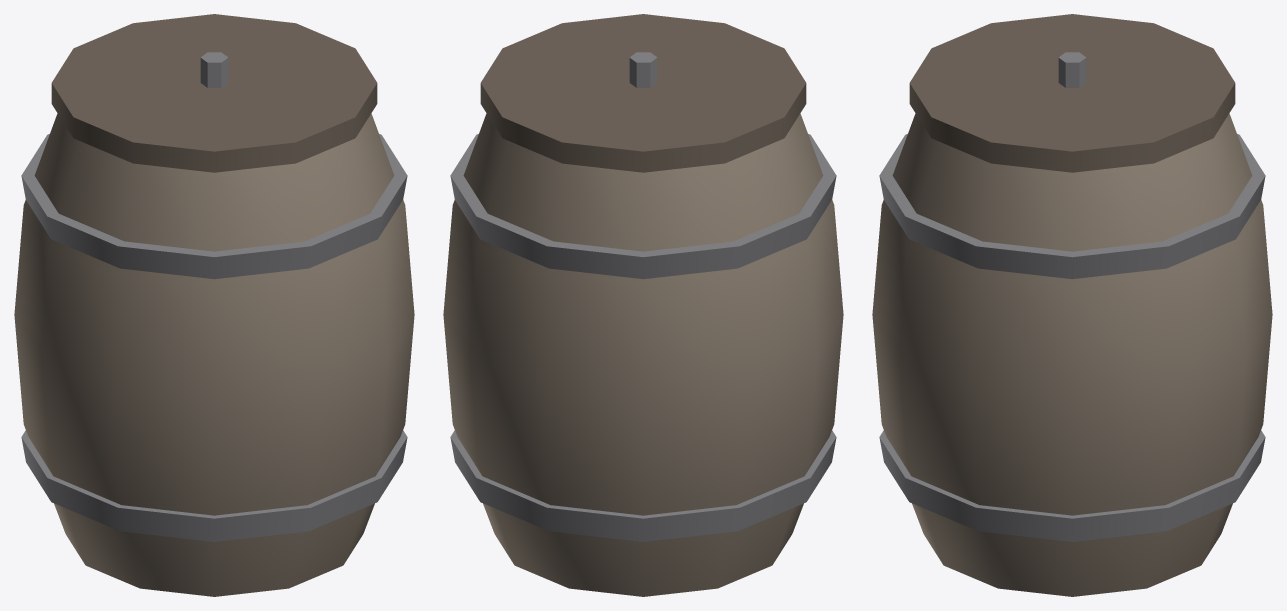
Rendered from loot_barrel.gltf.
The picture shows the model from 3 angles, left to right: view 1: azimuth 30°, elevation 25°; view 2: azimuth 150°, elevation 25°; view 3: azimuth 270°, elevation 25°; orthographic projection.
Parts seen in each view (by area): view 1: Body, Lid; view 2: Body, Lid; view 3: Body, Lid.
Boxes of the visible parts, box(x1,y1,x2,y2) form: Body: box(14, 113, 414, 596); Lid: box(51, 14, 377, 172); Body: box(443, 113, 843, 596); Lid: box(480, 14, 806, 172); Body: box(872, 113, 1272, 596); Lid: box(909, 14, 1235, 172).
Bounding box in the file's own units: 0.86 × 1.13 × 0.86.
